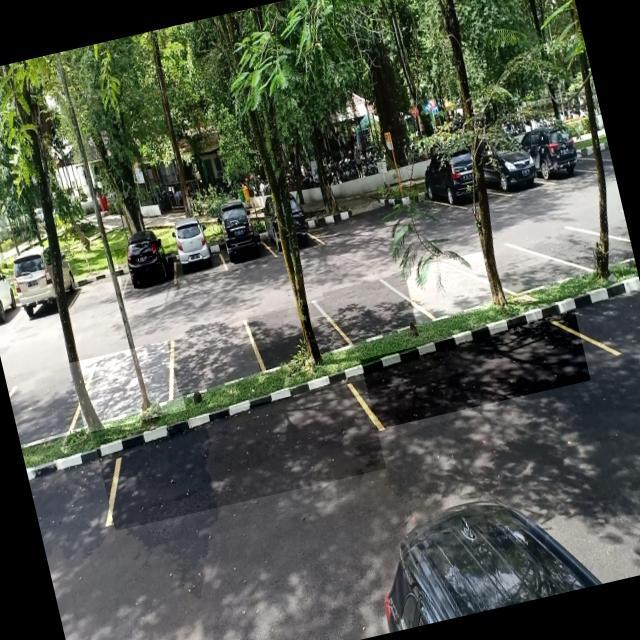empty: (95, 379, 387, 531), (360, 310, 590, 430), (70, 340, 186, 432), (166, 318, 264, 394), (322, 274, 416, 346), (404, 250, 494, 324), (247, 300, 336, 371), (494, 235, 567, 302), (62, 250, 126, 313)
occupied: (114, 237, 180, 301), (214, 207, 272, 272), (166, 223, 226, 284)
